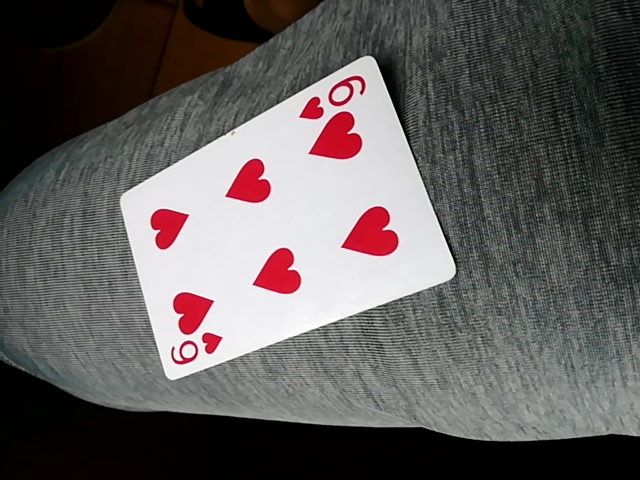hx 6: (117, 59, 457, 382)
